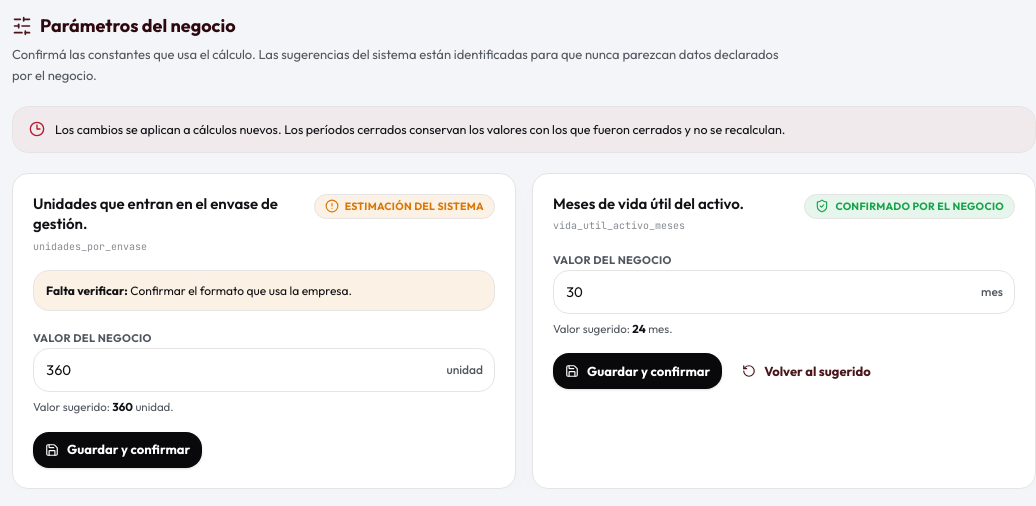
parámetros del negocio › ofrece borrar el override sólo para volver al valor sugerido
Click the button "Volver al sugerido".
click(806, 371)  # box [730, 353, 883, 389]
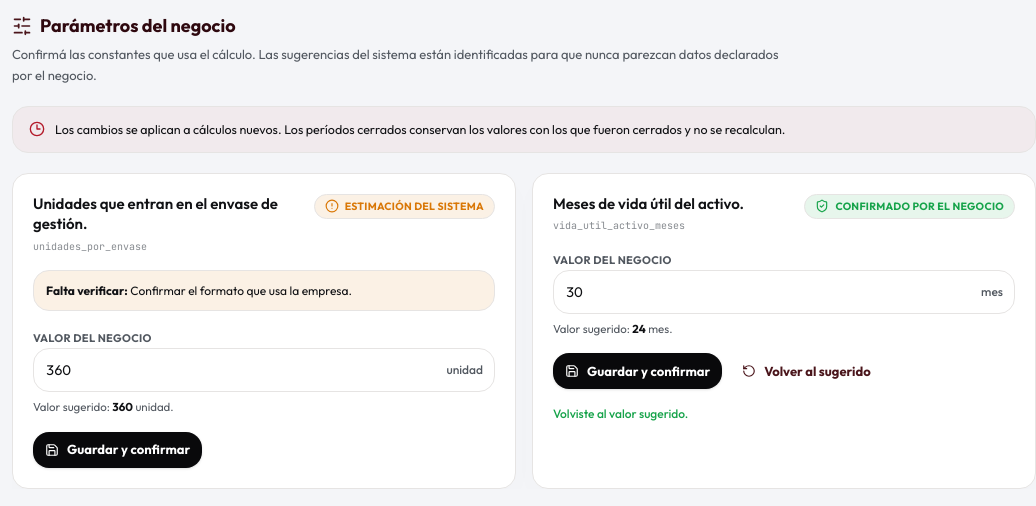
Result: the text "Volviste al valor sugerido." is shown at [553, 406, 688, 421]
